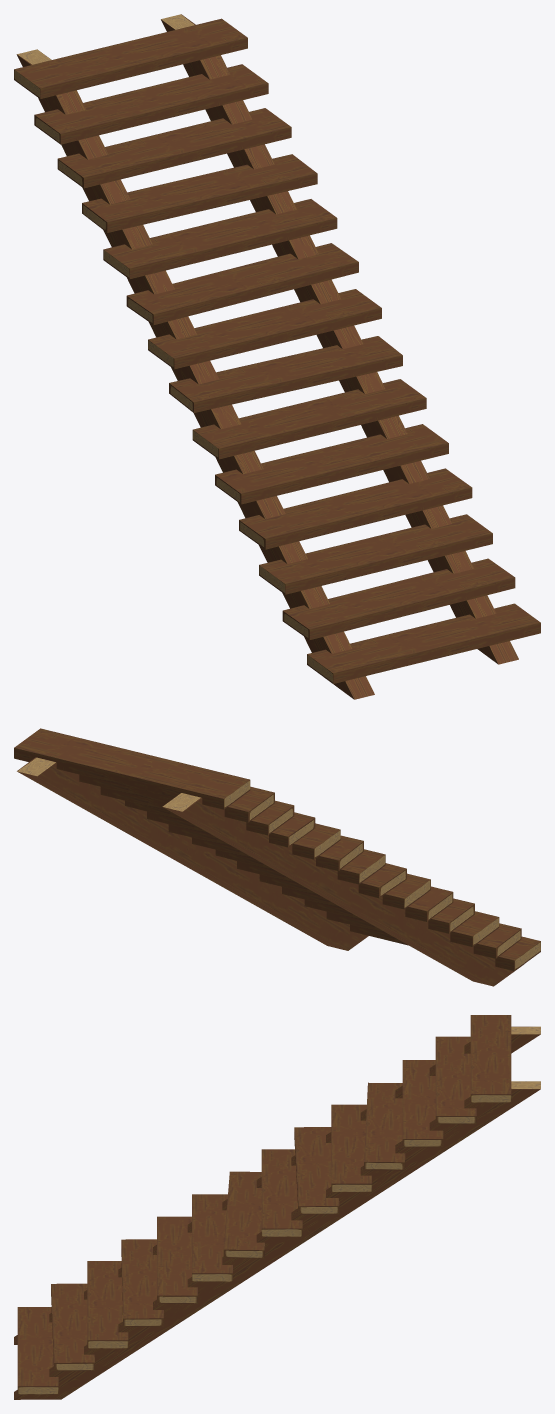
Rendered from stair_interior_simple.glb.
3 renders of one model, top to bottom at view 1: azimuth 30°, elevation 25°; view 2: azimuth 150°, elevation 25°; view 3: azimuth 270°, elevation 25°, orthographic. The views are drawn at different scales.
Parts seen in each view (by area): view 1: Stair_Interior_Simple; view 2: Stair_Interior_Simple; view 3: Stair_Interior_Simple.
Part boxes in pixels (<box>): Stair_Interior_Simple: <box>14,14,540,699</box>; Stair_Interior_Simple: <box>14,728,540,986</box>; Stair_Interior_Simple: <box>14,1015,540,1399</box>.
Size of the model in its own units: 1.68 by 3.03 by 4.62.
Materials: 1 (1 with a texture image).
